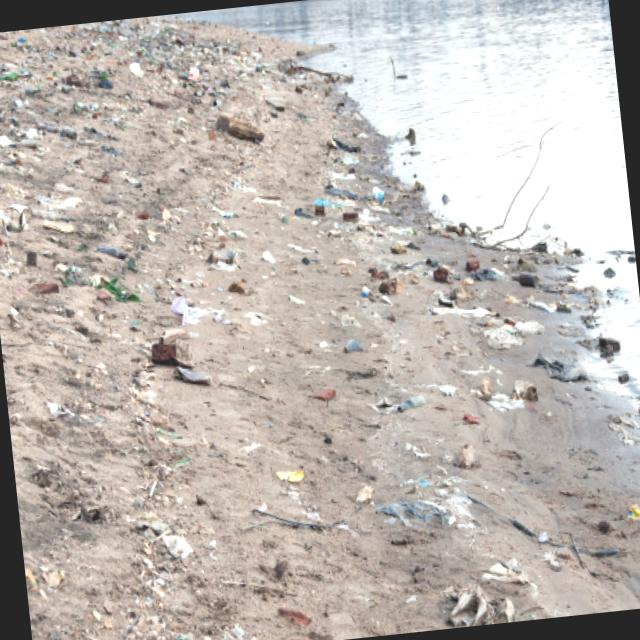garbage: (0, 19, 436, 573)
